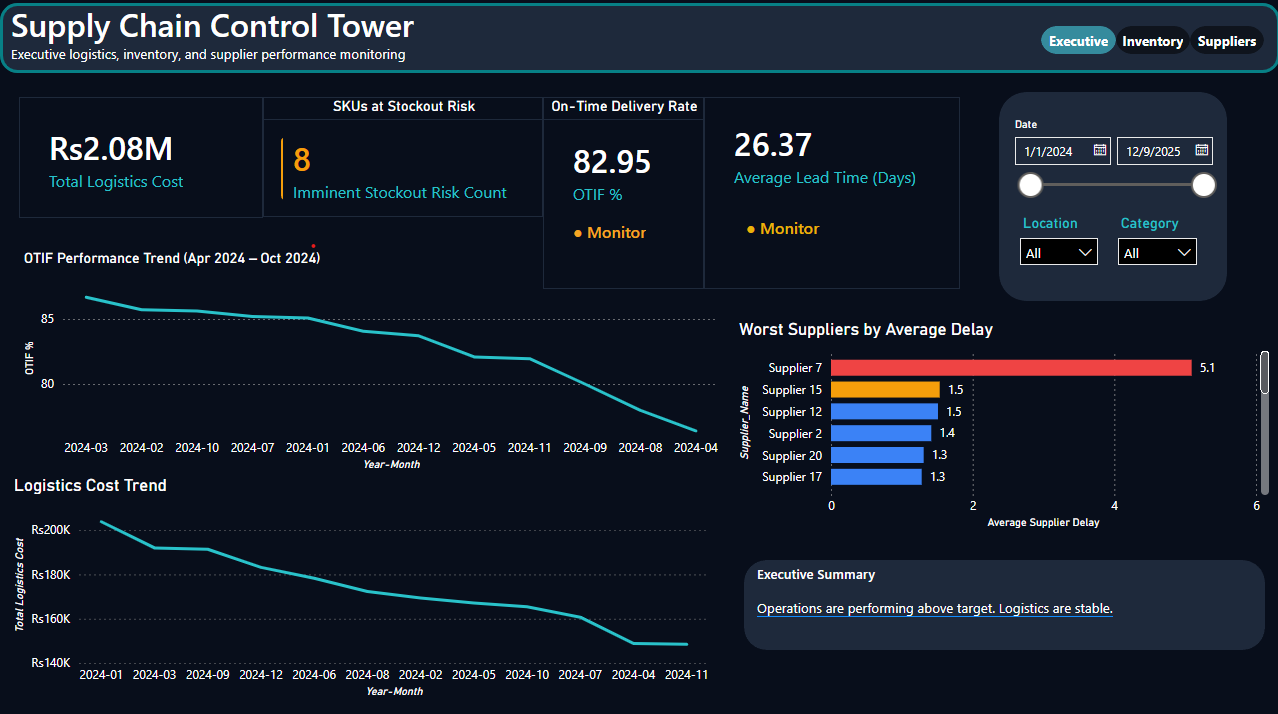

Layout of this report page (visuals, bound fields, positions):
{"tool":"powerbi","page":{"name":"Executive Overview","canvas":[1280,720],"ordinal":0},"visuals":[{"type":"cardVisual","fields":{"Data":["_Measures.Average Lead Time (Days)"]},"box":[704,100.2,256.3,191.5],"z":0},{"type":"shape","box":[743.9,563.1,520.7,90],"z":1000},{"type":"shape","box":[0,6.5,1280,70],"z":2000},{"type":"textbox","box":[8.9,3.3,438.9,78.9],"z":3000},{"type":"actionButton","box":[1041.4,28.6,74.3,28.6],"z":4000},{"type":"actionButton","box":[1115.7,28.6,74.3,28.6],"z":5000},{"type":"actionButton","box":[1190,28.6,74.3,28.6],"z":6000},{"type":"cardVisual","fields":{"Data":["_Measures.Total Logistics Cost"]},"box":[18.6,100.2,244.7,120.6],"z":7000},{"type":"cardVisual","title":"On-Time Delivery Rate","fields":{"Data":["_Measures.OTIF %"]},"box":[543.1,100,160.6,191.9],"z":8000},{"type":"cardVisual","title":"SKUs at Stockout Risk","fields":{"Data":["_Measures.Imminent Stockout Risk Count"]},"box":[263.3,100,279.5,120.5],"z":9000},{"type":"lineChart","title":"Logistics Cost Trend","fields":{"Y":["_Measures.Total Logistics Cost"],"Category":["Calendar.Year-Month"]},"box":[9.2,477.5,707.5,227.5],"z":10000},{"type":"lineChart","title":"OTIF Performance Trend (Apr 2024 – Oct 2024)","fields":{"Y":["_Measures.OTIF %"],"Category":["Calendar.Year-Month"]},"box":[18.8,252.5,707.5,225],"z":11000},{"type":"clusteredBarChart","title":"Worst Suppliers by Average Delay","fields":{"Category":["dim_suppliers.Supplier_Name"],"Y":["_Measures.Average Supplier Delay"]},"box":[733.6,322.1,540,214.3],"z":12000},{"type":"textbox","box":[751.8,563.1,527.9,102.9],"z":13000},{"type":"shape","box":[999.1,95.1,227.9,209.3],"z":14000},{"type":"slicer","title":"Warehouse Location","fields":{"Values":["dim_warehouses.Location"]},"box":[1009.8,213,98.4,78.9],"z":15000},{"type":"slicer","title":"Warehouse Location","fields":{"Values":["dim_products.Category"]},"box":[1108.2,213,98.4,65.6],"z":16000},{"type":"slicer","fields":{"Values":["Calendar.Date"]},"box":[1001.8,116.4,228.2,88.2],"z":17000}]}

Visuals, with their boxes in screenshot pixels (x1, y1, x2, y2), scaled from the page's 1280x720 canvas onto the 1278x714 screenshot:
cardVisual - _Measures.Average Lead Time (Days): box=[703, 99, 959, 289]
shape: box=[743, 558, 1263, 648]
shape: box=[0, 6, 1277, 76]
textbox: box=[9, 3, 447, 82]
actionButton: box=[1040, 28, 1114, 57]
actionButton: box=[1114, 28, 1188, 57]
actionButton: box=[1188, 28, 1262, 57]
cardVisual - _Measures.Total Logistics Cost: box=[19, 99, 263, 219]
"On-Time Delivery Rate" cardVisual: box=[542, 99, 703, 289]
"SKUs at Stockout Risk" cardVisual: box=[263, 99, 542, 219]
"Logistics Cost Trend" lineChart: box=[9, 474, 716, 699]
"OTIF Performance Trend (Apr 2024 – Oct 2024)" lineChart: box=[19, 250, 725, 474]
"Worst Suppliers by Average Delay" clusteredBarChart: box=[732, 319, 1272, 532]
textbox: box=[751, 558, 1277, 660]
shape: box=[998, 94, 1225, 302]
"Warehouse Location" slicer: box=[1008, 211, 1106, 289]
"Warehouse Location" slicer: box=[1106, 211, 1205, 276]
slicer - Calendar.Date: box=[1000, 115, 1228, 203]
